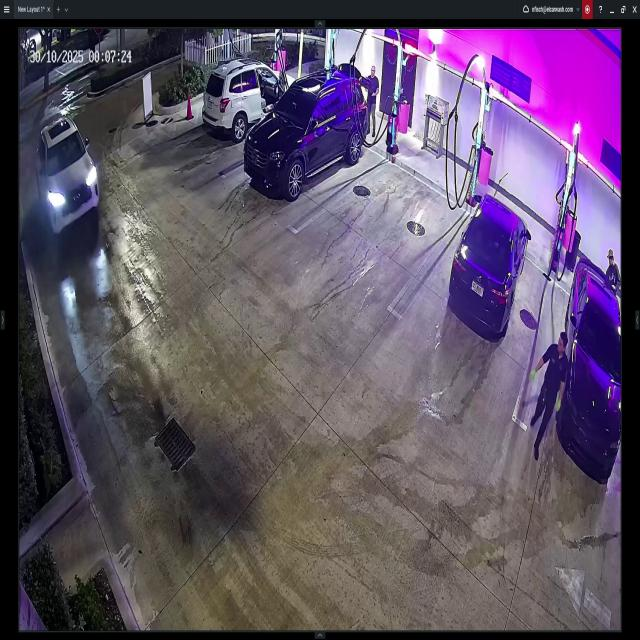Car: (245, 54, 364, 194), (560, 258, 621, 470), (451, 192, 528, 332), (207, 57, 295, 135), (35, 126, 99, 233)
